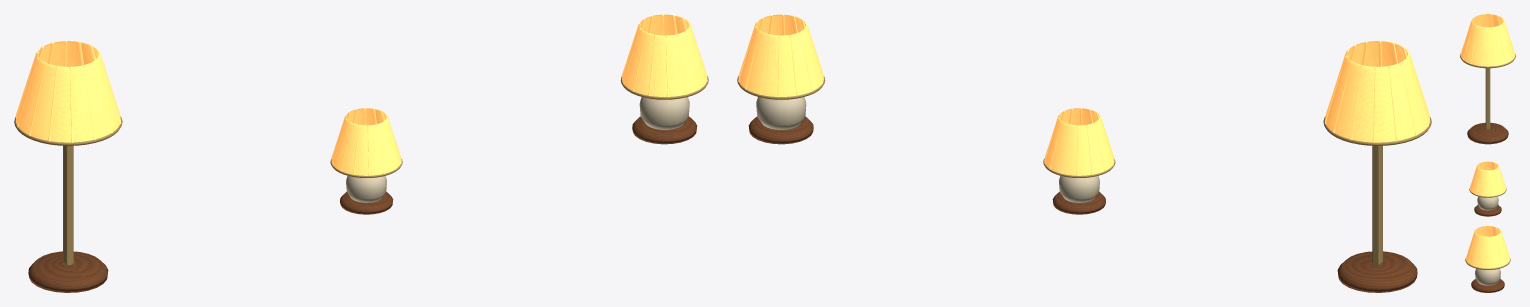
File: lamps.glb
3 renders of one model, left to right at view 1: azimuth 30°, elevation 25°; view 2: azimuth 150°, elevation 25°; view 3: azimuth 270°, elevation 25°, orthographic. The views are drawn at different scales.
Visible parts, largest first — view 1: lamp (×3); view 2: lamp (×3); view 3: lamp (×3).
Boxes of the visible parts, x1=… form: lamp (×3): x1=14, y1=14, x2=708, y2=292; lamp (×3): x1=737, y1=14, x2=1431, y2=292; lamp (×3): x1=1460, y1=14, x2=1515, y2=292.
Size of the model in its own units: 2.97 by 0.9272 by 0.409.
7 materials, 2 textured.
